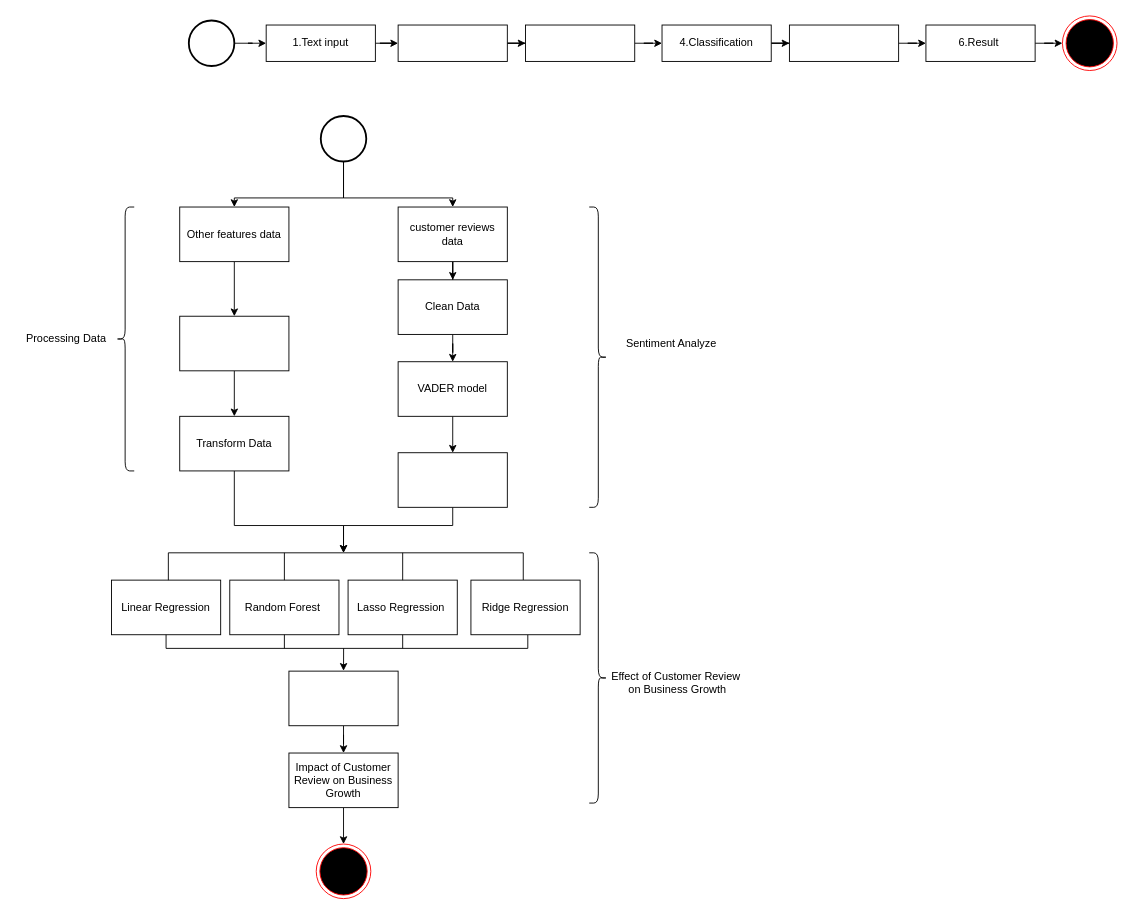
This 1133x915 diagram has some shape labels left out. The centre of each missing label's shape, as x and y in pixels:
"2.Preprocessing" goes at point (452, 42).
"3.Clean Data" goes at point (580, 42).
"5.Sentiment Analysis" goes at point (844, 42).
"Handle missing data" goes at point (234, 343).
"MSE" goes at point (343, 698).
"Sentiment Analyze Result" goes at point (452, 479).
